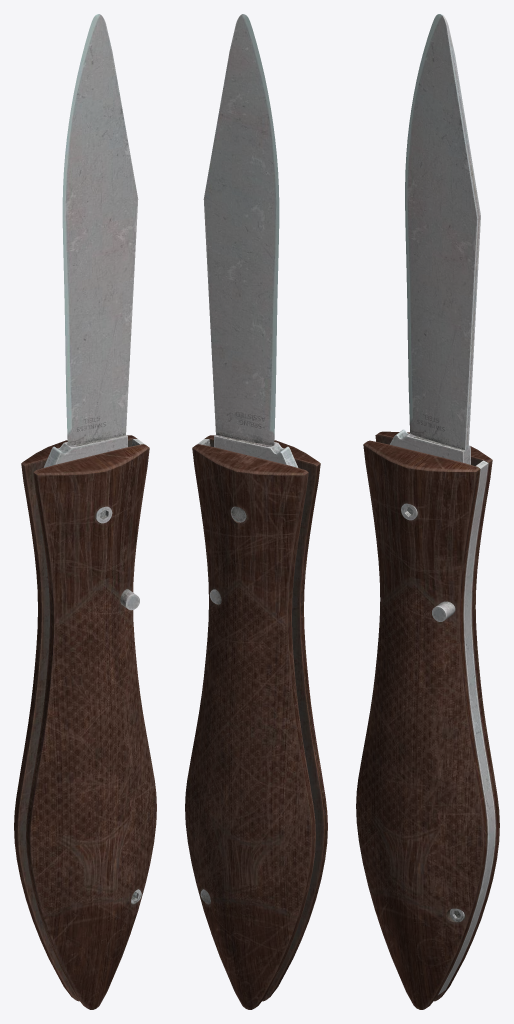
Rendered from fish_knife.gltf.
3 renders of one model, left to right at view 1: azimuth 30°, elevation 25°; view 2: azimuth 150°, elevation 25°; view 3: azimuth 330°, elevation 25°, orthographic.
Visible parts, largest first — view 1: fish_knife__x; view 2: fish_knife__x; view 3: fish_knife__x.
Part boxes in pixels (left/top/right/bottom): fish_knife__x: left=14, top=14, right=156, bottom=1009; fish_knife__x: left=185, top=14, right=327, bottom=1009; fish_knife__x: left=356, top=14, right=499, bottom=1009.
Size of the model in its own units: 0.029 by 0.2157 by 0.0162.
1 material, 1 textured.
